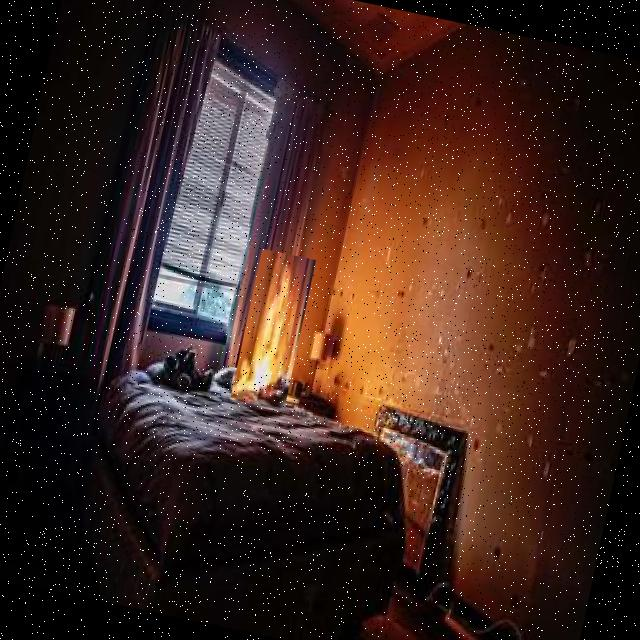fire: (230, 248, 316, 411)
